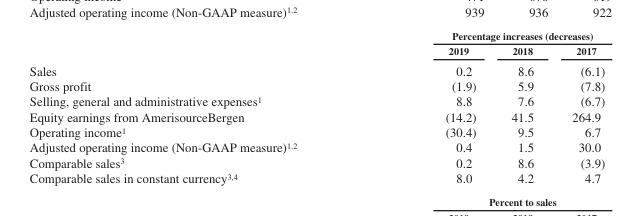table: (28, 29, 604, 184)
table column: (28, 29, 370, 184), (370, 29, 493, 184), (493, 29, 552, 184), (552, 29, 604, 184)
table column header: (28, 29, 604, 59)
table row: (28, 59, 604, 77), (28, 42, 604, 59), (28, 77, 604, 93), (28, 123, 604, 139), (28, 93, 604, 108), (28, 108, 604, 123), (28, 139, 604, 154), (28, 154, 604, 169), (28, 169, 604, 184), (28, 29, 604, 42)
table spanning cell: (370, 29, 604, 42)
